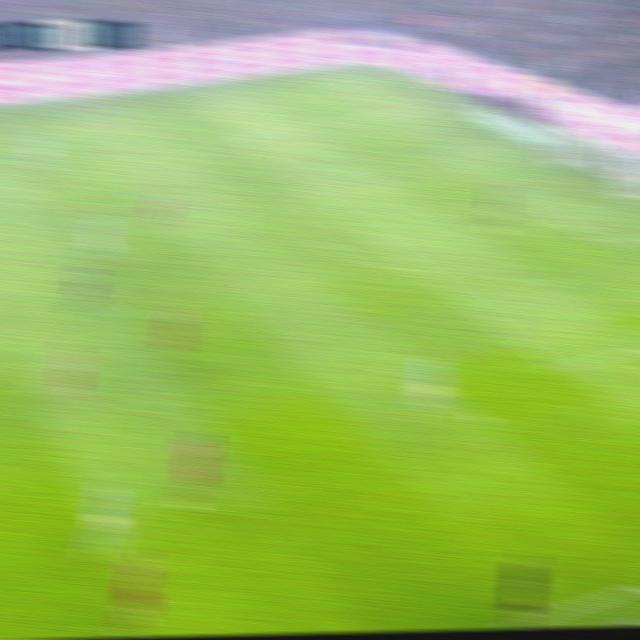bigarea_bottom_inner: (544, 358, 572, 379)
bigarea_top_inner: (230, 130, 256, 146)
bigarea_top_outter: (421, 100, 444, 112)
bottom_arc_area_intersection: (410, 262, 434, 276)
corner: (338, 60, 372, 76)
smallarea_bottom_inner: (592, 233, 620, 255)
smallarea_top_inner: (432, 149, 456, 165)
smallarea_top_outter: (496, 138, 518, 150)
top_arc_area_intersection: (304, 183, 326, 199)
